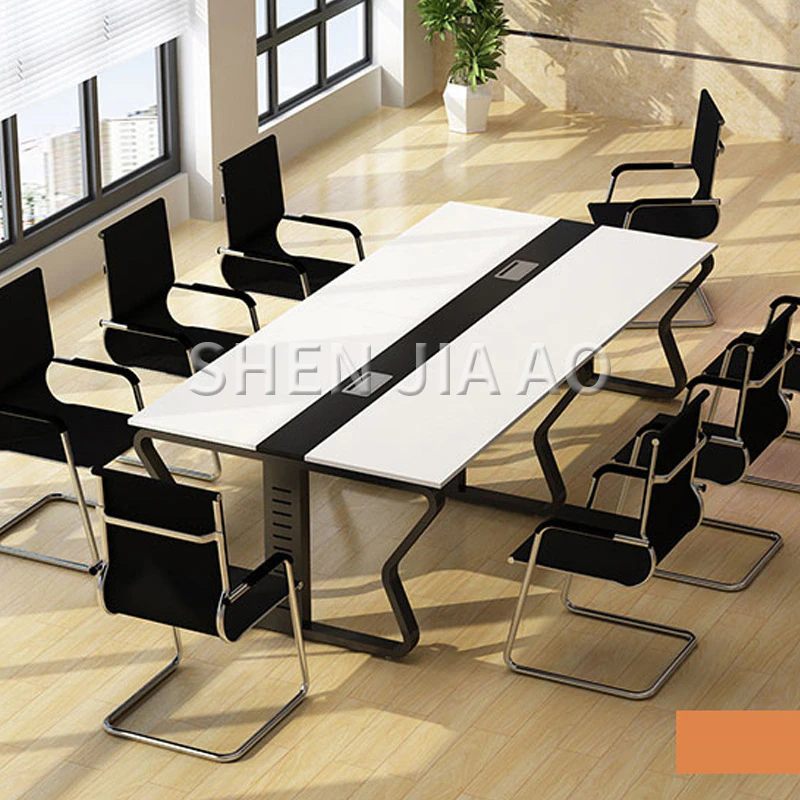conference_table: (126, 202, 717, 662)
